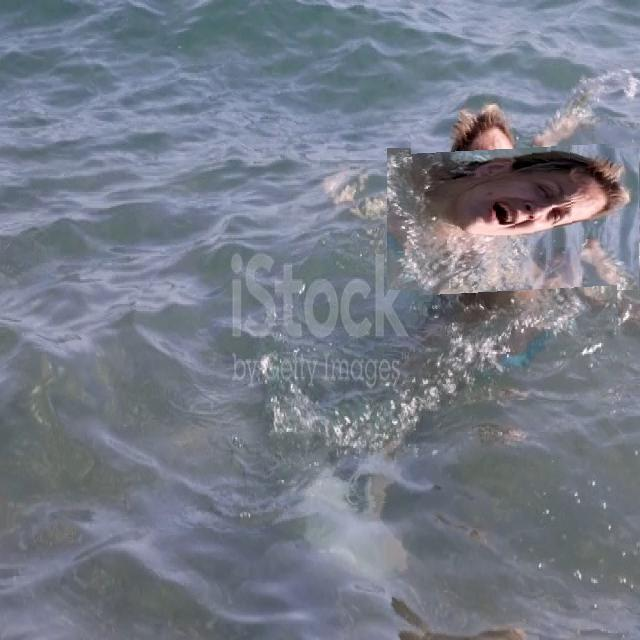Out of Water: (412, 118, 616, 322)
